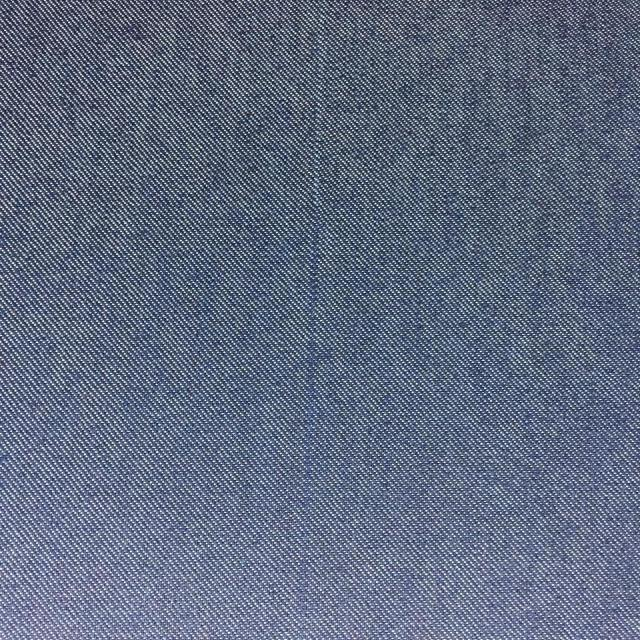Line: (294, 0, 330, 640)
